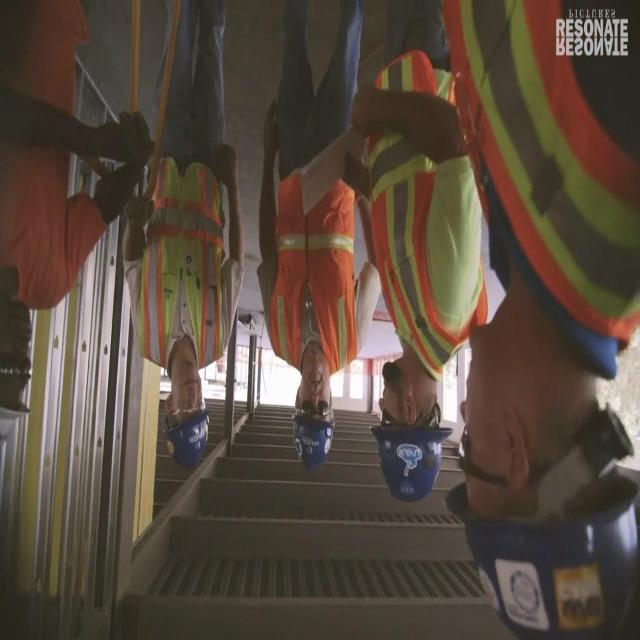helmet: (441, 466, 640, 632), (355, 418, 459, 512), (158, 402, 212, 474), (290, 409, 340, 474), (0, 396, 40, 468)
jacket: (358, 42, 492, 366), (267, 137, 363, 378), (136, 151, 234, 367)
